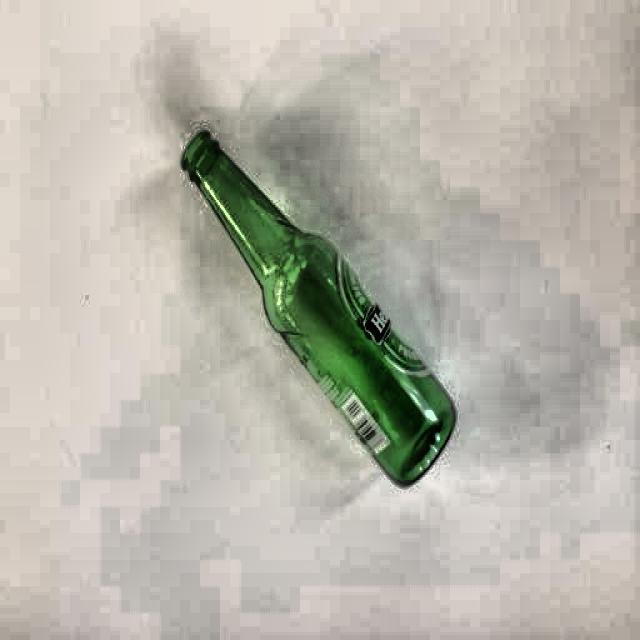glass: (173, 126, 461, 494)
